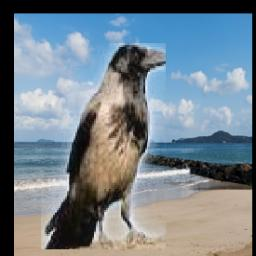Crow: (41, 44, 166, 250)
